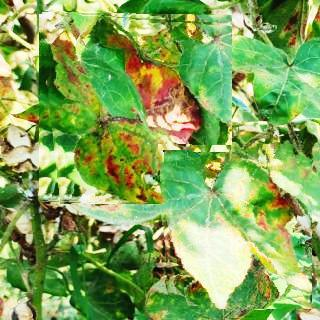blight: (39, 12, 232, 204), (158, 144, 312, 309)
